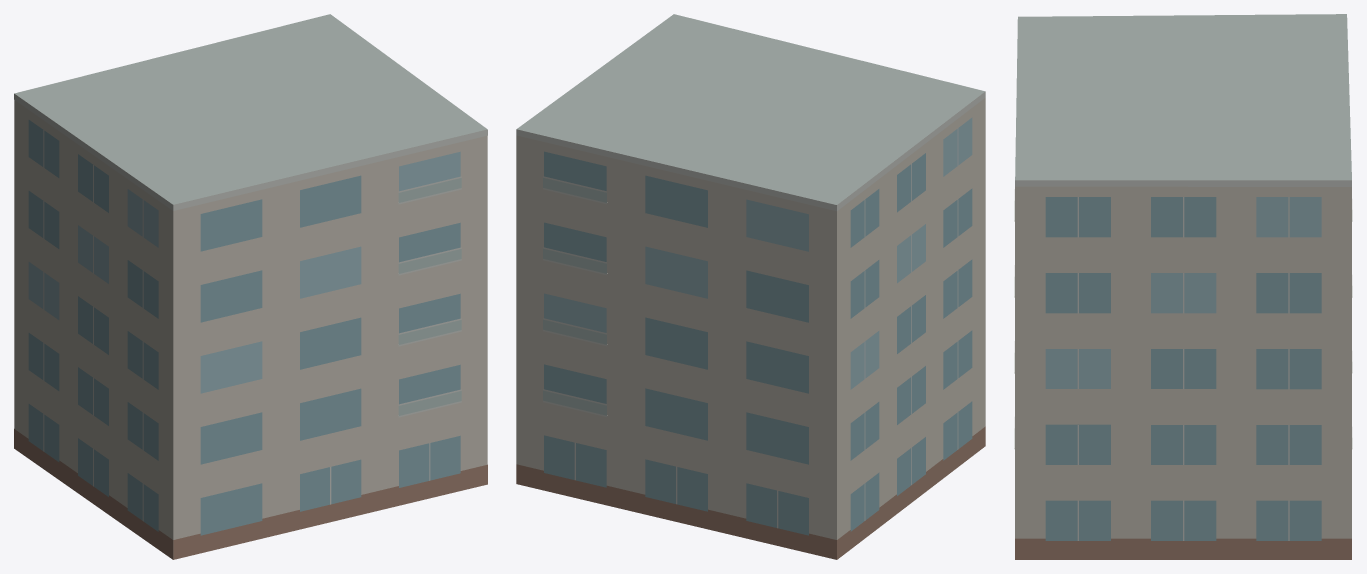
The model's file is survey-upis-32632430.glb.
3 renders of one model, left to right at view 1: azimuth 30°, elevation 25°; view 2: azimuth 150°, elevation 25°; view 3: azimuth 270°, elevation 25°, orthographic. The views are drawn at different scales.
Parts seen in each view (by area): view 1: survey-upis-32632430.tmp; view 2: survey-upis-32632430.tmp; view 3: survey-upis-32632430.tmp.
Part boxes in pixels (x1,y1,x2,y2): survey-upis-32632430.tmp: (14,14,487,559); survey-upis-32632430.tmp: (516,14,985,559); survey-upis-32632430.tmp: (1014,14,1352,559).
Size of the model in its own units: 13.16 by 14 by 11.32.
